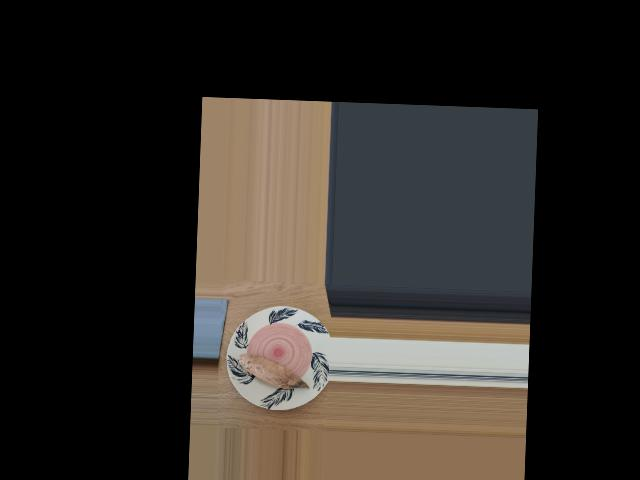sweet_potato: (241, 351, 302, 389)
